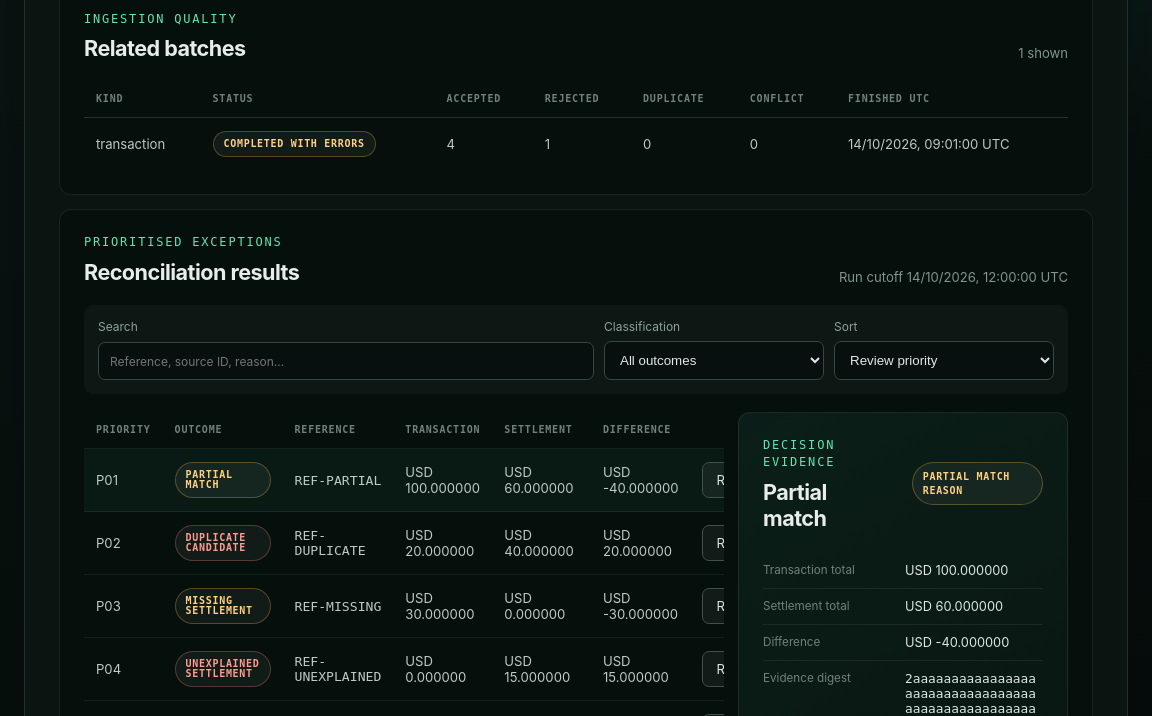
Scenario: Dashboard › filters results and exposes a deterministic filtered-empty state
(page scrolled)
Select "Exact match" in the dropdown labelled "Classification": [714, 361] box [604, 341, 824, 380]
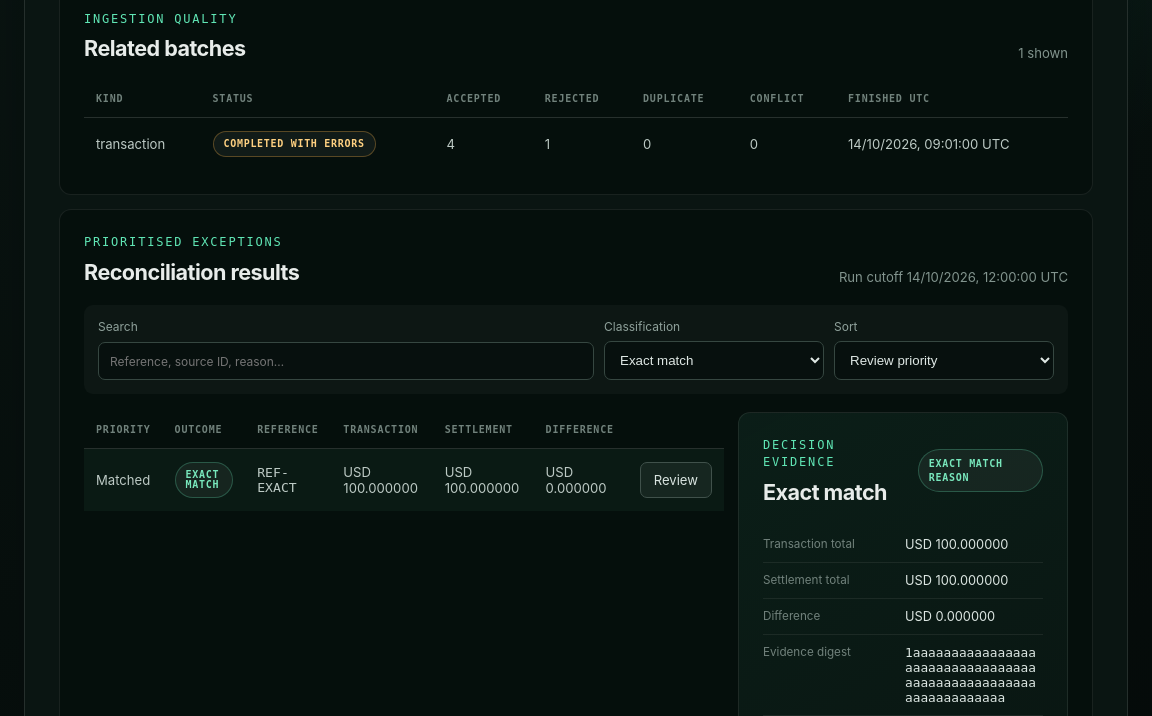
Result: the text "REF-PARTIAL" is gone
In the search field labelled "Search": [346, 361] box [98, 342, 594, 380], type "not-present"
(page scrolled)
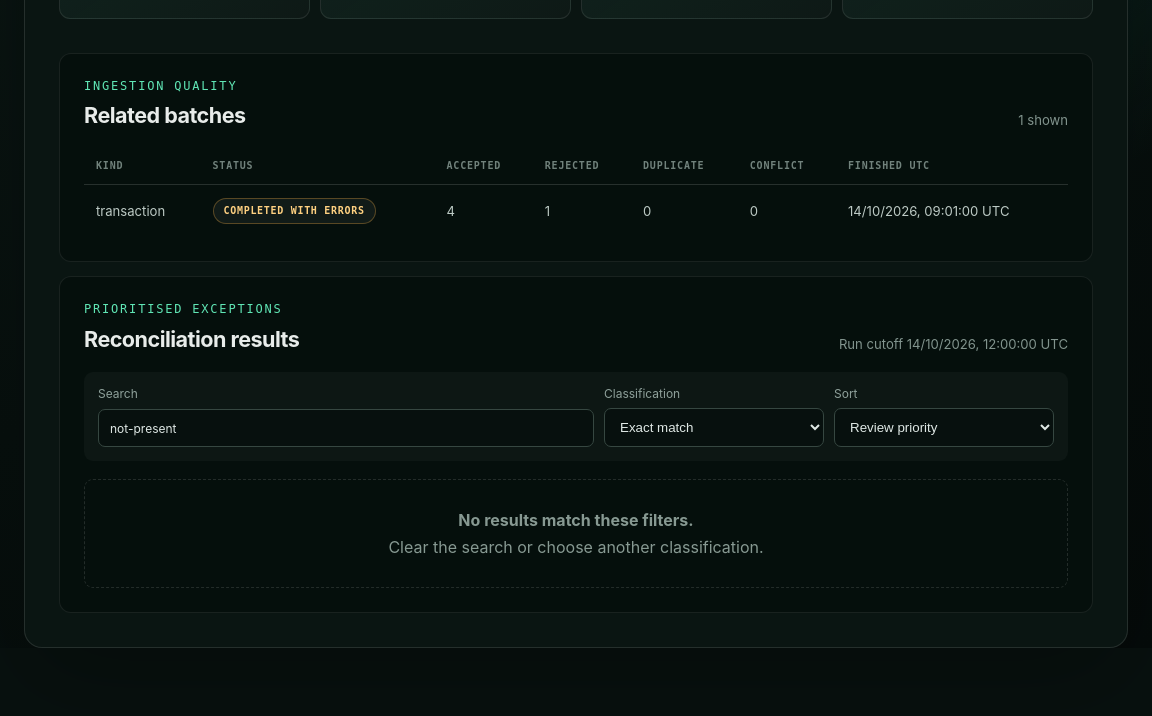
Result: the text "No results match these filters." is shown at [458, 510, 694, 530]
